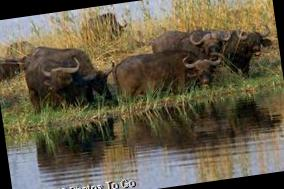Buffalo: (6, 0, 284, 148)
